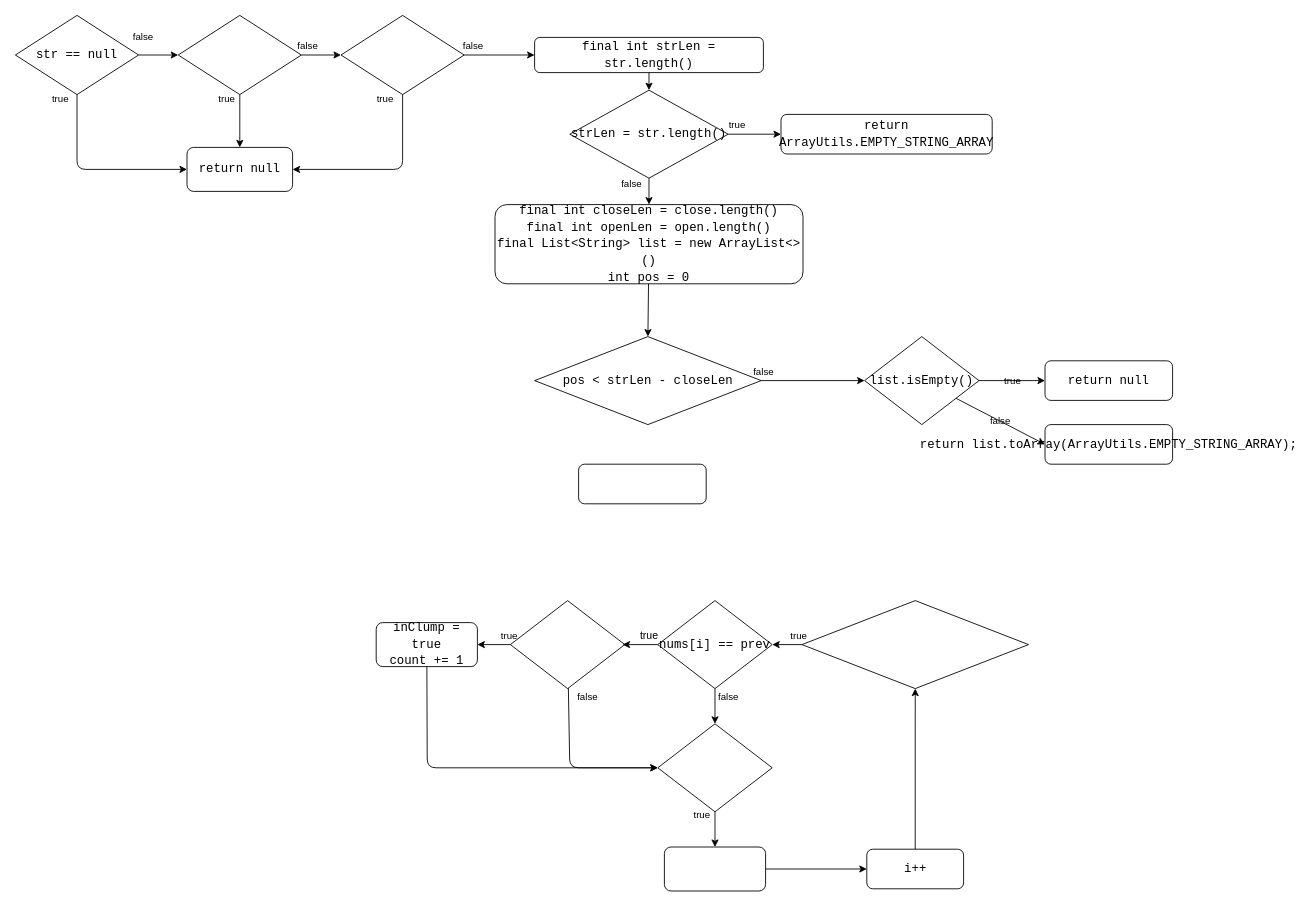
Image size: 1313x918. Some labels were removed from this diagram. The centre of each missing label's shape, as x and y in pixels:
!inClump: point 567,644
i < nums.length: point 915,644
int start = str . indexOf ( open , pos ): point 642,483
isEmpty(close): point 402,55
isEmpty(open): point 239,55
num[i] != prev: point 714,767
prev = nums[i] inClump = false: point 715,868
